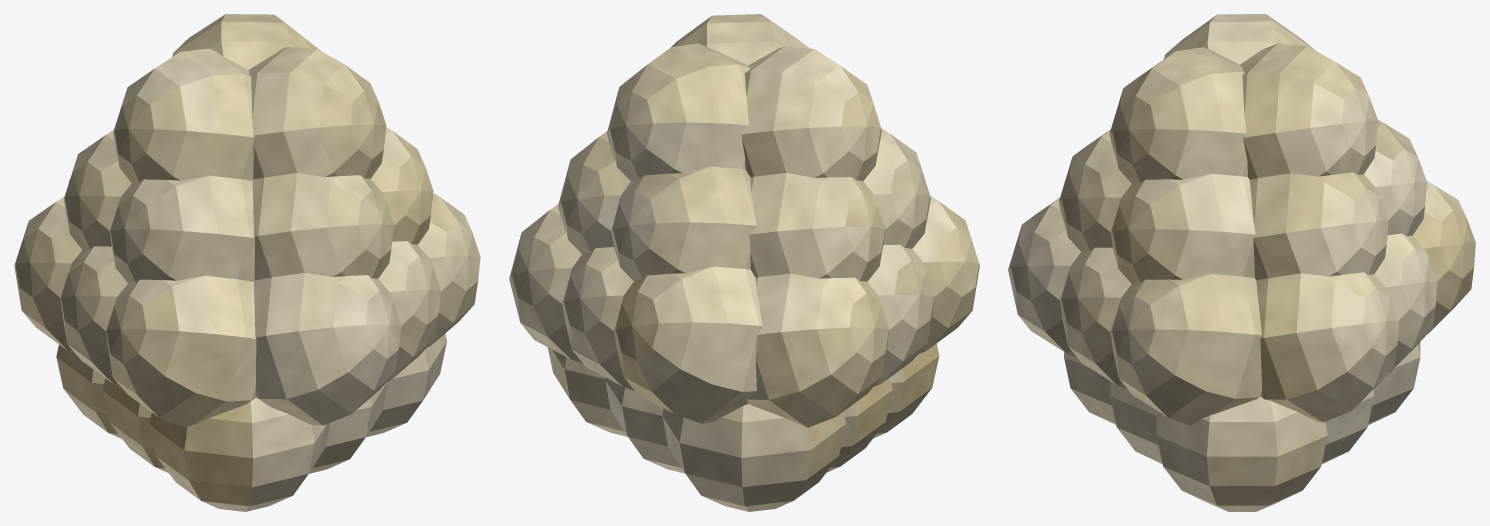
The model's file is landingBalloon.obj.
3 renders of one model, left to right at view 1: azimuth 30°, elevation 25°; view 2: azimuth 150°, elevation 25°; view 3: azimuth 270°, elevation 25°, orthographic.
Parts seen in each view (by area): view 1: Sphere; view 2: Sphere; view 3: Sphere.
Boxes of the visible parts, box(x1,y1,x2,y2) form: Sphere: box(14, 14, 480, 511); Sphere: box(509, 14, 979, 511); Sphere: box(1008, 14, 1475, 511).
Bounding box in the file's own units: 4.67 × 4.87 × 5.05.
